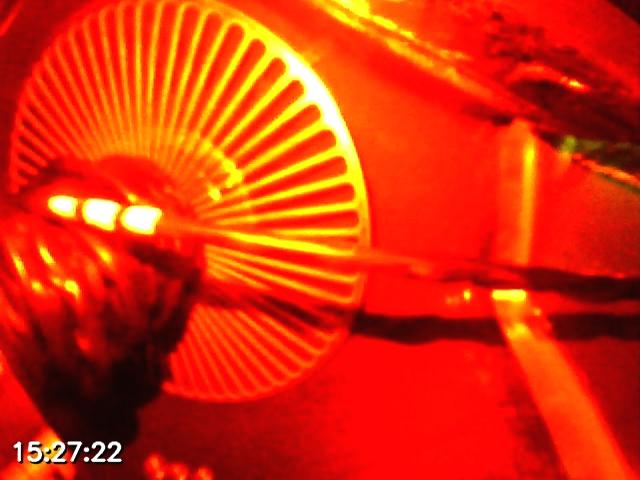white-dots: (45, 195, 163, 237)
